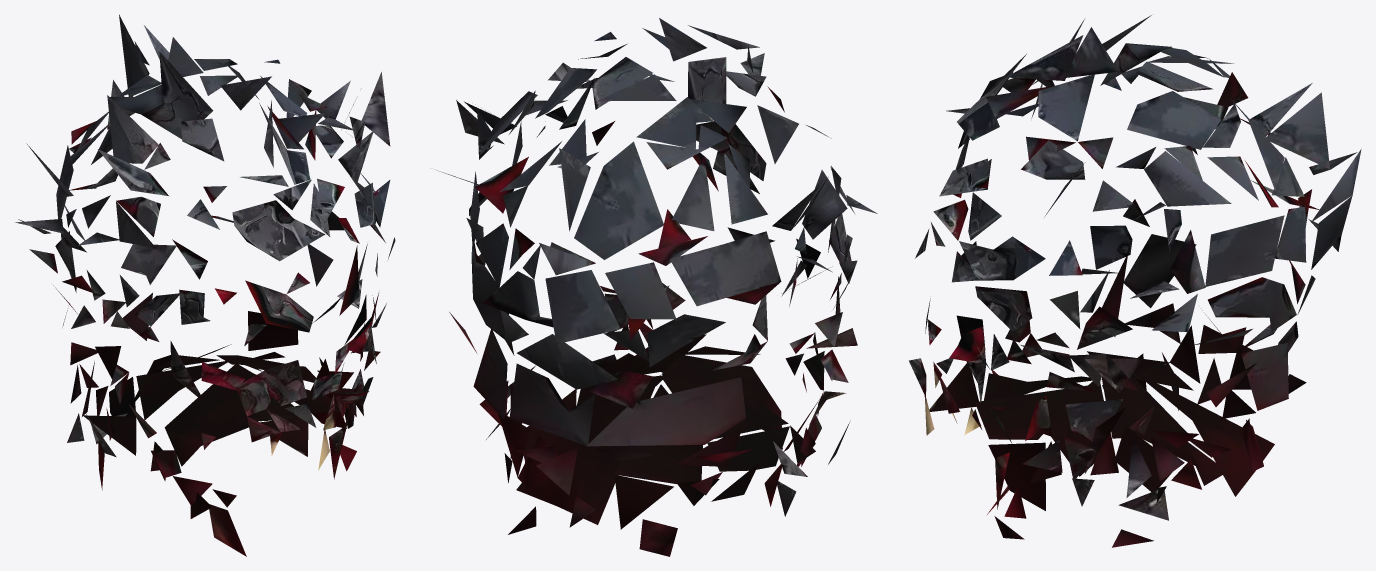
Rendered from tripo-rochedo154-lod.glb.
The picture shows the model from 3 angles, left to right: view 1: azimuth 30°, elevation 25°; view 2: azimuth 150°, elevation 25°; view 3: azimuth 270°, elevation 25°; orthographic projection. The views are drawn at different scales.
Visible parts, largest first — view 1: tripo_node_33a49ff2-cd32-4f03-b520-776f035b996a; view 2: tripo_node_33a49ff2-cd32-4f03-b520-776f035b996a; view 3: tripo_node_33a49ff2-cd32-4f03-b520-776f035b996a.
Part boxes in pixels (bbox=[...]): tripo_node_33a49ff2-cd32-4f03-b520-776f035b996a: bbox=[15, 14, 395, 556]; tripo_node_33a49ff2-cd32-4f03-b520-776f035b996a: bbox=[436, 18, 877, 556]; tripo_node_33a49ff2-cd32-4f03-b520-776f035b996a: bbox=[909, 15, 1361, 547].
Bounding box in the file's own units: 0.7882 × 0.954 × 0.7809.
1 material, 1 textured.
